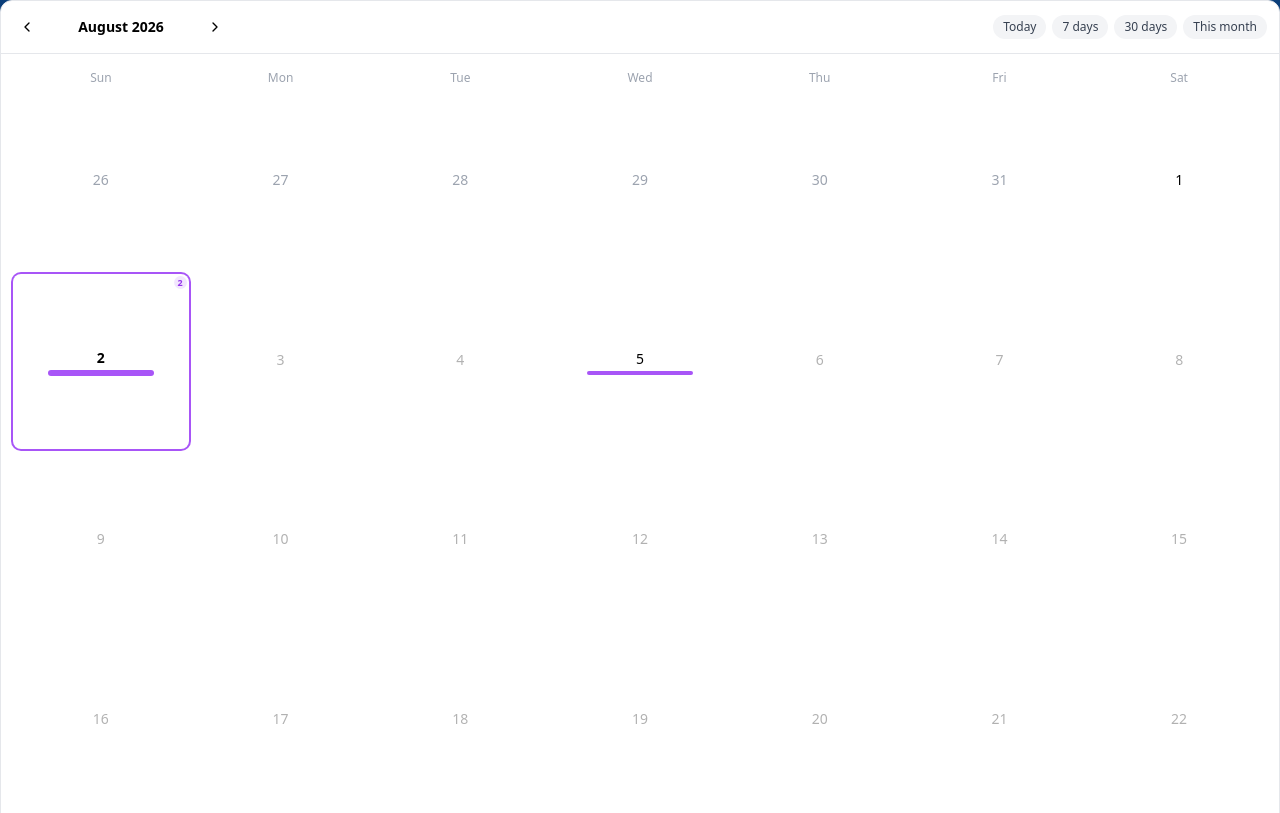
Test: OrderCalendar › pages between months without changing the selection
The image size is (1280, 813).
Click the button named "Previous month". click: [27, 27]
box: [13, 13, 41, 41]
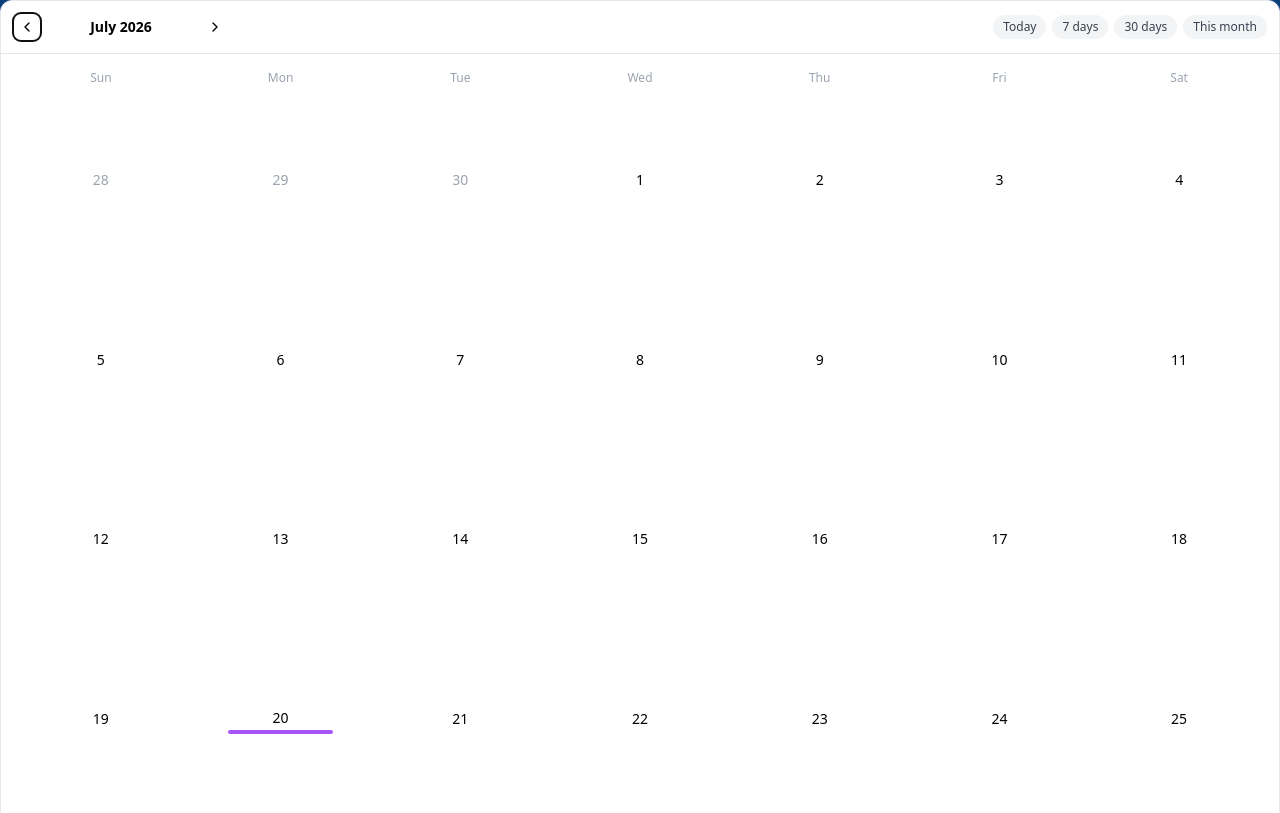
expect the heading "July 2026" is shown: met, box [90, 17, 152, 36]
Click the button named "Next month". click: [215, 27]
box: [201, 13, 229, 41]
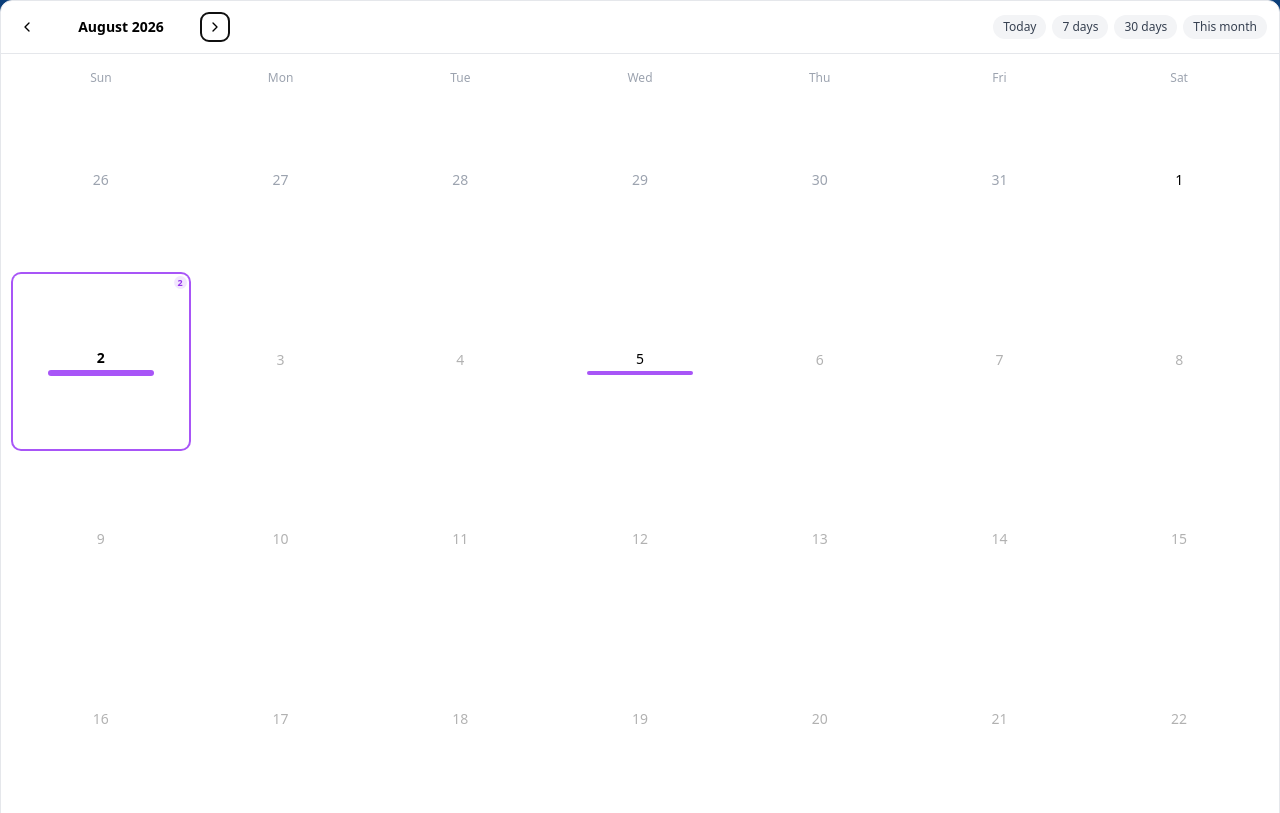
Click the button named "Next month". click: [215, 27]
box: [201, 13, 229, 41]
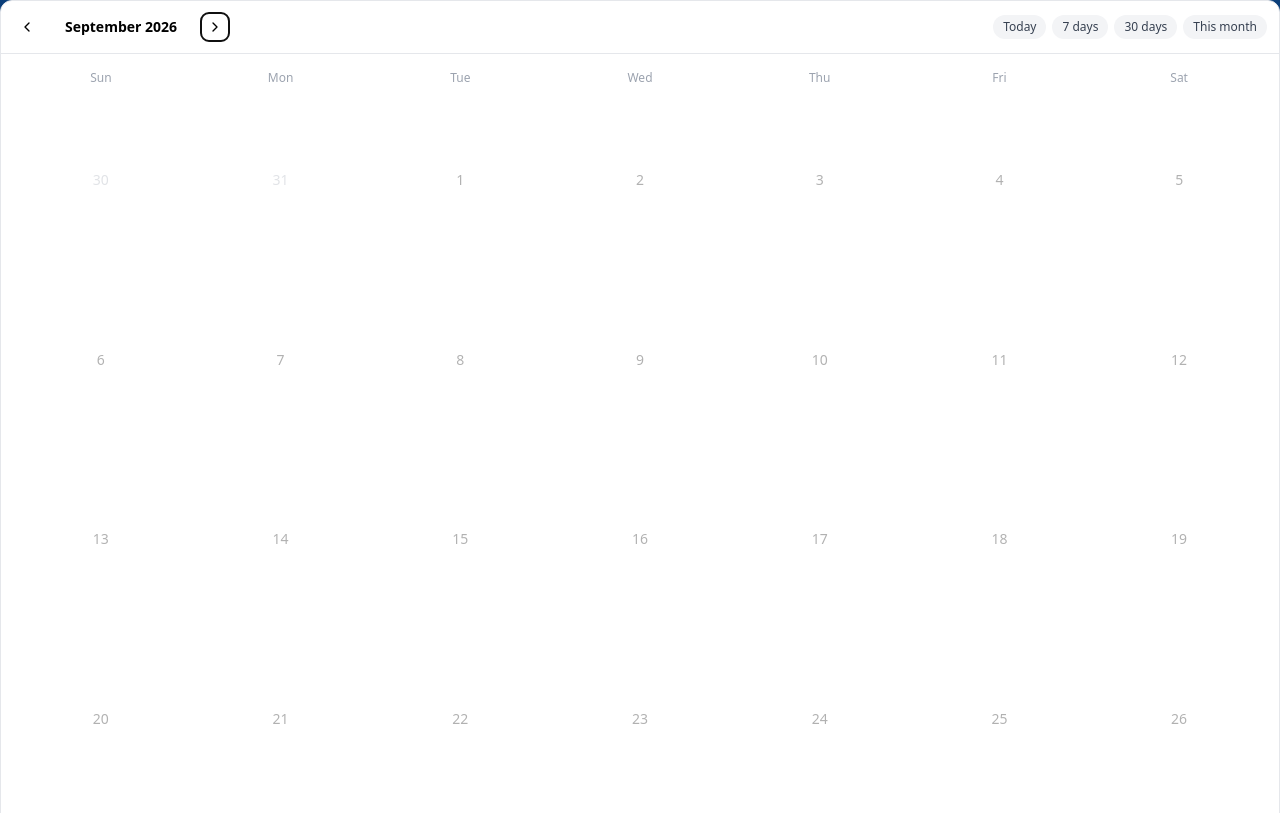
expect the heading "September 2026" is shown: met, box [65, 17, 177, 36]
